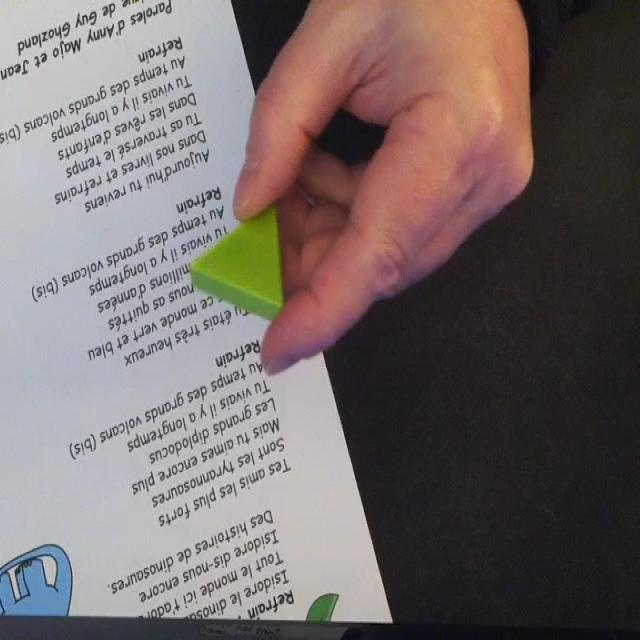triangle: (190, 200, 286, 319)
